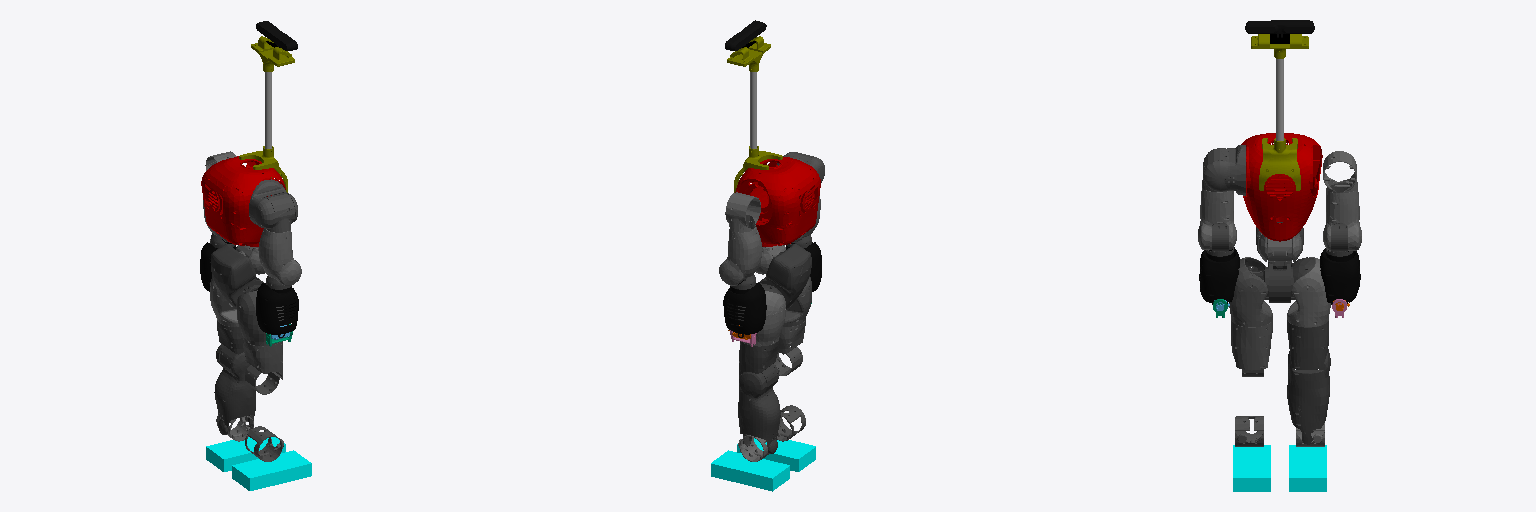
--- What the picture shows (computed from the rendered views, not written in the file) ---
Views: 3 orthographic renders of the robot side by side, from view 1: azimuth 30°, elevation 25°; view 2: azimuth 150°, elevation 25°; view 3: azimuth 270°, elevation 25°.
Robot: COMAN — 54 links, 53 joints (29 revolute, 24 fixed); root link base_link; default pose: all joints at 0.
Links seen in each view (by area): view 1: DWYTorso, LLowLeg, RFoot, Xtion_body, Waist, RForearm, RShy, RThighLowLeg, LFoot, RShp, RThighUpLeg, LThighLowLeg (+4 smaller); view 2: DWYTorso, LLowLeg, LFoot, Xtion_body, Waist, LForearm, LShy, LThighLowLeg, LThighUpLeg, LShr, RFoot, RThighLowLeg (+3 smaller); view 3: DWYTorso, Xtion_body, LLowLeg, RThighUpLeg, LThighUpLeg, RThighLowLeg, LShy, RForearm, RFoot, LFoot, LForearm, LThighLowLeg (+8 smaller).
Link boxes in pixels (<box>): DWYTorso: <box>201,156,285,246</box>; LLowLeg: <box>214,344,255,434</box>; RFoot: <box>232,450,311,490</box>; Xtion_body: <box>239,36,294,192</box>; Waist: <box>210,244,263,308</box>; RForearm: <box>256,283,298,337</box>; RShy: <box>258,229,301,285</box>; RThighLowLeg: <box>243,340,282,394</box>; LFoot: <box>206,437,285,471</box>; RShp: <box>249,179,297,228</box>; RThighUpLeg: <box>236,290,283,345</box>; LThighLowLeg: <box>217,321,243,373</box>; DWYTorso: <box>735,157,820,246</box>; LLowLeg: <box>738,364,780,453</box>; LFoot: <box>711,450,789,491</box>; Xtion_body: <box>727,36,782,192</box>; Waist: <box>758,244,811,308</box>; LForearm: <box>723,280,766,337</box>; LShy: <box>719,221,761,285</box>; LThighLowLeg: <box>739,340,778,391</box>; LThighUpLeg: <box>738,291,785,345</box>; LShr: <box>725,192,760,232</box>; RFoot: <box>737,438,815,471</box>; RThighLowLeg: <box>774,320,805,375</box>; DWYTorso: <box>1241,133,1322,241</box>; Xtion_body: <box>1251,34,1308,190</box>; LLowLeg: <box>1287,349,1330,444</box>; RThighUpLeg: <box>1229,257,1272,326</box>; LThighUpLeg: <box>1287,257,1330,326</box>; RThighLowLeg: <box>1231,320,1272,376</box>; LShy: <box>1323,181,1361,250</box>; RForearm: <box>1199,247,1239,304</box>; RFoot: <box>1233,445,1270,491</box>; LFoot: <box>1289,445,1326,491</box>; LForearm: <box>1320,248,1360,304</box>; LThighLowLeg: <box>1287,320,1328,369</box>.
Size in the robot's own frame: 0.2484 by 0.4296 by 1.33 metres.
27 mesh visuals loaded from 28 distinct referenced files (23 Collada DAE); not drawn: 5 (reference not matched to a file when rendering).

The robot description file, URDF, robot "COMAN":
<?xml version="1.0" ?>
<!-- =================================================================================== -->
<!-- |    This document was autogenerated by xacro from coman.urdf.xacro               | -->
<!-- |    EDITING THIS FILE BY HAND IS NOT RECOMMENDED                                 | -->
<!-- =================================================================================== -->
<robot name="COMAN" xmlns:xacro="http://ros.org/wiki/xacro">
  <!-- 
  ROS urdf definition of the COMAN humanoid robot by Istituto Italiano di Tecnologia
  
  DO NOT INCLUDE THIS FILE DIRECTLY! USE coman_robot.urdf.xacro INSTEAD!

  Author: Enrico Mingo & Alessio Rocchi

  Inertial matrix has to be in CoM frame (URDF specs)

  Velocity and effort limits are fake!
-->
  <!-- ************ MODEL CONFIGURATION ************ -->
  <!-- ******************** FAKE LINKS ******************** -->
  <!-- This links are defined in order to be compliant with http://www.ros.org/reps/rep-0120.html#coordinate-frames
and to define the end effectors of the robot -->
  <!-- The coordinate frame called base_link is rigidly attached to the robot root body. It is recommended to choose the robot waist as its root body. The base_link can be attached to the root in any arbitrary position or orientation; for every hardware platform there will be a different place on the base that provides an obvious point of reference. Note that REP 103 [1] specifies a preferred orientation for frames. -->
  <link name="base_link"/>
  <!-- position and orientation of the arm regardless of the tool (grasping device for instance) attached to it -->
  <link name="l_wrist"/>
  <link name="r_wrist"/>
  <!--  position and orientation of the leg regardless of the support body geometry -->
  <link name="l_ankle"/>
  <link name="r_ankle"/>
  <!-- position and orientation of the left leg support body. The (X,Y) plane of this frame must be coplanar with the support body contact surface. It is recommended to choose the origin as the projection of the support body origin on the contact surface. The Z coordinate of this frame should be on the ground level when standing. -->
  <link name="l_sole"/>
  <link name="r_sole"/>
  <!--  position and orientation of the leg toe body. The (X,Y) plan of this frame must be coplanar with the toe body contact surface. It is recommended to choose the origin as the projection of the body center on the contact surface. -->
  <link name="l_toe"/>
  <link name="r_toe"/>
  <!-- The coordinate frame called torso is attached to the lowest body of the model which is a parent of l_gripper, r_gripper and gaze. -->
  <link name="torso"/>
  <!-- Reference frames in feet -->
  <link name="l_foot_upper_right_link"/>
  <joint name="l_foot_upper_right_joint" type="fixed">
    <origin rpy="0 0 0" xyz="0.13 -0.05 0"/>
    <parent link="l_sole"/>
    <child link="l_foot_upper_right_link"/>
  </joint>
  <link name="l_foot_upper_left_link"/>
  <joint name="l_foot_upper_left_joint" type="fixed">
    <origin rpy="0 0 0" xyz="0.13 0.05 0"/>
    <parent link="l_sole"/>
    <child link="l_foot_upper_left_link"/>
  </joint>
  <link name="l_foot_lower_right_link"/>
  <joint name="l_foot_lower_right_joint" type="fixed">
    <origin rpy="0 0 0" xyz="-0.07 -0.05 0"/>
    <parent link="l_sole"/>
    <child link="l_foot_lower_right_link"/>
  </joint>
  <link name="l_foot_lower_left_link"/>
  <joint name="l_foot_lower_left_joint" type="fixed">
    <origin rpy="0 0 0" xyz="-0.07 0.05 0"/>
    <parent link="l_sole"/>
    <child link="l_foot_lower_left_link"/>
  </joint>
  <link name="r_foot_upper_right_link"/>
  <joint name="r_foot_upper_right_joint" type="fixed">
    <origin rpy="0 0 0" xyz="0.13 -0.05 0"/>
    <parent link="r_sole"/>
    <child link="r_foot_upper_right_link"/>
  </joint>
  <link name="r_foot_upper_left_link"/>
  <joint name="r_foot_upper_left_joint" type="fixed">
    <origin rpy="0 0 0" xyz="0.13 0.05 0"/>
    <parent link="r_sole"/>
    <child link="r_foot_upper_left_link"/>
  </joint>
  <link name="r_foot_lower_right_link"/>
  <joint name="r_foot_lower_right_joint" type="fixed">
    <origin rpy="0 0 0" xyz="-0.07 -0.05 0"/>
    <parent link="r_sole"/>
    <child link="r_foot_lower_right_link"/>
  </joint>
  <link name="r_foot_lower_left_link"/>
  <joint name="r_foot_lower_left_joint" type="fixed">
    <origin rpy="0 0 0" xyz="-0.07 0.05 0"/>
    <parent link="r_sole"/>
    <child link="r_foot_lower_left_link"/>
  </joint>
  <!-- Head -->
  <link name="Xtion_body">
    <inertial>
      <origin rpy="0 0 0" xyz="0.047 0.0 0.40"/>
      <mass value="0.39"/>
      <inertia ixx="0.01" ixy="3.34E-7" ixz="-2.66E-4" iyy="0.009" iyz="1.97E-6" izz="5.1E-4"/>
    </inertial>
    <visual>
      <origin rpy="0 0 -3.14159265359" xyz="-0.020281504 0.0 -0.68662053"/>
      <geometry name="Xtion_body_visual">
        <mesh filename="package://coman_urdf/meshes/collada/Xtion/xtion_base.dae" scale="0.03937 0.03937 0.03937"/>
      </geometry>
    </visual>
    <collision>
      <origin rpy="0 0 -3.14159265359" xyz="-0.020281504 0.0 -0.68662053"/>
      <geometry name="Xtion_body_collision">
        <mesh filename="package://coman_urdf/meshes/collada/simple/Xtion/xtion_base.stl" scale="0.03937 0.03937 0.03937"/>
      </geometry>
    </collision>
  </link>
  <link name="Xtion_cam_body">
    <inertial>
      <origin rpy="0 0 0" xyz="0.0 0.0 0.0225"/>
      <mass value="0.2"/>
      <inertia ixx="0.00053" ixy="0.0" ixz="0.0" iyy="0.00008" iyz="0.0" izz="0.00053"/>
    </inertial>
    <visual>
      <origin rpy="0 0 -3.14159265359" xyz="-0.0915 0.0 -1.2778"/>
      <geometry name="Xtion_cam_body_visual">
        <mesh filename="package://coman_urdf/meshes/collada/Xtion/xtion_cam_body.dae" scale="0.001 0.001 0.001"/>
      </geometry>
    </visual>
    <collision>
      <origin rpy="0 0 -3.14159265359" xyz="-0.0915 0.0 -1.2778"/>
      <geometry name="Xtion_cam_body_collision">
        <mesh filename="package://coman_urdf/meshes/collada/simple/Xtion/xtion_cam_body.stl" scale="0.001 0.001 0.001"/>
      </geometry>
    </collision>
  </link>
  <link name="gaze"/>
  <!-- ************ COMAN BASE ************** -->
  <link name="Waist">
    <inertial>
      <origin rpy="0 0 0" xyz="-0.026391145 -5.8216364E-4 0.052632312"/>
      <mass value="1.8008695"/>
      <inertia ixx="0.0051032982" ixy="-5.7170981E-5" ixz="0.0016920543" iyy="0.006241636" iyz="1.7225949E-5" izz="0.0024517762"/>
    </inertial>
    <visual>
      <origin rpy="0 0 -3.14159265359" xyz="0 0 -0.52"/>
      <geometry name="Waist_visual">
        <mesh filename="package://coman_urdf/meshes/collada/asm0001_collada_07_prt.dae" scale="0.03937 0.03937 0.03937"/>
      </geometry>
    </visual>
    <collision>
      <origin rpy="0 0 -3.14159265359" xyz="0 0 -0.52"/>
      <geometry name="Waist_collision">
        <mesh filename="package://coman_urdf/meshes/collada/simple/simple_asm0001_collada_07_prt.stl" scale="0.03937 0.03937 0.03937"/>
      </geometry>
    </collision>
  </link>
  <link name="DWL">
    <inertial>
      <origin rpy="0 0 0" xyz="4.2999707E-4 -0.0097650317 0.033011157"/>
      <mass value="0.54588774"/>
      <inertia ixx="9.7126578E-4" ixy="-7.2101244E-7" ixz="1.1440119E-6" iyy="7.4686706E-4" iyz="-1.7450917E-4" izz="6.2196235E-4"/>
    </inertial>
    <visual>
      <origin rpy="0 0 -3.14159265359" xyz="-0.020281504 0 -0.63912053"/>
      <geometry name="DWL_visual">
        <mesh filename="package://coman_urdf/meshes/collada/asm0001_collada_09_prt.dae" scale="0.03937 0.03937 0.03937"/>
      </geometry>
    </visual>
    <collision>
      <origin rpy="0 0 -3.14159265359" xyz="-0.020281504 0 -0.63912053"/>
      <geometry name="DWL_collision">
        <mesh filename="package://coman_urdf/meshes/collada/simple/simple_asm0001_collada_09_prt.stl" scale="0.03937 0.03937 0.03937"/>
      </geometry>
    </collision>
  </link>
  <link name="DWS">
    <inertial>
      <origin rpy="0 0 0" xyz="-0.0021273416 0.0033575235 -0.0010076896"/>
      <mass value="0.75398402"/>
      <inertia ixx="3.4093348E-4" ixy="-6.2120042E-6" ixz="-1.3863473E-6" iyy="3.9581916E-4" iyz="1.443019E-6" izz="3.7449753E-4"/>
    </inertial>
    <visual>
      <origin rpy="0 0 -3.14159265359" xyz="-0.020281504 0 -0.63912053"/>
      <geometry name="DWS_visual">
        <mesh filename="package://coman_urdf/meshes/collada/asm0001_collada_08_prt.dae" scale="0.03937 0.03937 0.03937"/>
      </geometry>
    </visual>
    <collision>
      <origin rpy="0 0 -3.14159265359" xyz="-0.020281504 0 -0.63912053"/>
      <geometry name="DWS_collision">
        <mesh filename="package://coman_urdf/meshes/collada/simple/simple_asm0001_collada_08_prt.stl" scale="0.03937 0.03937 0.03937"/>
      </geometry>
    </collision>
  </link>
  <link name="DWYTorso">
    <inertial>
      <origin rpy="0 0 0" xyz="-0.0358501 1.8286043E-5 0.117557148"/>
      <mass value="6.3617175"/>
      <inertia ixx="0.034089342" ixy="-9.8308572E-6" ixz="-7.5649290E-4" iyy="0.030117357" iyz="6.2443771E-6" izz="0.025296582"/>
    </inertial>
    <visual>
      <origin rpy="0 0 -3.14159265359" xyz="-0.020281504 0.0 -0.68662053"/>
      <geometry name="DWYTorso_visual">
        <mesh filename="package://coman_urdf/meshes/collada/asm0001_collada_10_prt.dae" scale="0.03937 0.03937 0.03937"/>
      </geometry>
    </visual>
    <collision>
      <origin rpy="0 0 -3.14159265359" xyz="-0.020281504 0.0 -0.68662053"/>
      <geometry name="DWYTorso_collision">
        <mesh filename="package://coman_urdf/meshes/collada/simple/simple_asm0001_collada_10_prt.stl" scale="0.03937 0.03937 0.03937"/>
      </geometry>
    </collision>
  </link>
  <link name="RHipMot">
    <inertial>
      <origin rpy="0 0 0" xyz="-3.269678E-4 -0.023587321 -2.6496509E-4"/>
      <mass value="0.89258227"/>
      <inertia ixx="4.7672294E-4" ixy="-3.9936567E-6" ixz="-2.4802574E-6" iyy="5.458038E-4" iyz="-3.3389575E-6" izz="5.126859E-4"/>
    </inertial>
    <visual>
      <origin rpy="0 0 -3.14159265359" xyz="0.0 0.023 -0.52"/>
      <geometry name="RHipMot_visual">
        <mesh filename="package://coman_urdf/meshes/collada/asm0001_collada_20_prt.dae" scale="0.03937 0.03937 0.03937"/>
      </geometry>
    </visual>
    <collision>
      <origin rpy="0 0 -3.14159265359" xyz="0.0 0.023 -0.52"/>
      <geometry name="RHipMot_collision">
        <mesh filename="package://coman_urdf/meshes/collada/simple/simple_asm0001_collada_20_prt.stl" scale="0.03937 0.03937 0.03937"/>
      </geometry>
    </collision>
  </link>
  <link name="RThighUpLeg">
    <inertial>
      <origin rpy="0 0 0" xyz="0.0012591632 -0.016896372 -0.058903336"/>
      <mass value="1.0246101"/>
      <inertia ixx="9.165719E-4" ixy="-1.4449904E-6" ixz="-1.6685011E-5" iyy="0.00104849584" iyz="2.5492874E-5" izz="6.8637197E-4"/>
    </inertial>
    <visual>
      <origin rpy="0 0 -3.14159265359" xyz="0.0 0.0726 -0.52"/>
      <geometry name="RThighUpLeg_visual">
        <mesh filename="package://coman_urdf/meshes/collada/asm0001_collada_19_prt.dae" scale="0.03937 0.03937 0.03937"/>
      </geometry>
    </visual>
    <collision>
      <origin rpy="0 0 -3.14159265359" xyz="0.0 0.0726 -0.52"/>
      <geometry name="RThighUpLeg_collision">
        <mesh filename="package://coman_urdf/meshes/collada/simple/simple_asm0001_collada_19_prt.stl" scale="0.03937 0.03937 0.03937"/>
      </geometry>
    </collision>
  </link>
  <link name="RThighLowLeg">
    <inertial>
      <origin rpy="0 0 0" xyz="9.8720058E-4 6.7037262E-4 -0.075716843"/>
      <mass value="1.7001134"/>
      <inertia ixx="0.0038979546" ixy="1.7802399E-6" ixz="2.6403262E-5" iyy="0.0039360845" iyz="4.522711E-5" izz="9.0218711E-4"/>
    </inertial>
    <visual>
      <origin rpy="0 0 -3.14159265359" xyz="0.0 0.0726 -0.4176"/>
      <geometry name="RThighLowLeg_visual">
        <mesh filename="package://coman_urdf/meshes/collada/asm0001_collada_18_prt.dae" scale="0.03937 0.03937 0.03937"/>
      </geometry>
    </visual>
    <collision>
      <origin rpy="0 0 -3.14159265359" xyz="0.0 0.0726 -0.4176"/>
      <geometry name="RThighLowLeg_collision">
        <mesh filename="package://coman_urdf/meshes/collada/simple/simple_asm0001_collada_18_prt.stl" scale="0.03937 0.03937 0.03937"/>
      </geometry>
    </collision>
  </link>
  <link name="RLowLeg">
    <inertial>
      <origin rpy="0 0 0" xyz="0.0024612666 -0.0053099614 -0.08598948"/>
      <mass value="1.4098179"/>
      <inertia ixx="0.0040604004" ixy="1.1227206E-5" ixz="1.2260973E-5" iyy="0.004005652855" iyz="5.1899176E-4" izz="0.0012414054"/>
    </inertial>
    <visual>
      <origin rpy="0 0 -3.14159265359" xyz="0.0 0.0726 -0.2942"/>
      <geometry name="RLowLeg_visual">
        <mesh filename="package://coman_urdf/meshes/collada/asm0001_collada_17_prt.dae" scale="0.03937 0.03937 0.03937"/>
      </geometry>
    </visual>
    <collision>
      <origin rpy="0 0 -3.14159265359" xyz="0.0 0.0726 -0.2942"/>
      <geometry name="RLowLeg_collision">
        <mesh filename="package://coman_urdf/meshes/collada/simple/simple_asm0001_collada_17_prt.stl" scale="0.03937 0.03937 0.03937"/>
      </geometry>
    </collision>
  </link>
  <link name="RFootmot">
    <inertial>
      <origin rpy="0 0 0" xyz="8.8067281E-4 -9.2224881E-4 2.3038476E-4"/>
      <mass value="0.72992131"/>
      <inertia ixx="3.2034425E-4" ixy="7.6346303E-6" ixz="2.5430158E-7" iyy="3.6584358E-4" iyz="-3.6889276E-6" izz="3.6065156E-4"/>
    </inertial>
    <visual>
      <origin rpy="0 0 -3.14159265359" xyz="0.0 0.0726 -0.0932"/>
      <geometry name="RFootmot_visual">
        <mesh filename="package://coman_urdf/meshes/collada/asm0001_collada_16_prt.dae" scale="0.03937 0.03937 0.03937"/>
      </geometry>
    </visual>
    <collision>
      <origin rpy="0 0 -3.14159265359" xyz="0.0 0.0726 -0.0932"/>
      <geometry name="RFootmot_collision">
        <mesh filename="package://coman_urdf/meshes/collada/simple/simple_asm0001_collada_16_prt.stl" scale="0.03937 0.03937 0.03937"/>
      </geometry>
    </collision>
  </link>
  <link name="RFoot">
    <inertial>
      <origin rpy="0 0 0" xyz="0.00969210464 -0.0090460227 -0.043062308"/>
      <mass value="0.66646684"/>
      <inertia ixx="0.0012944808" ixy="-9.2387693E-5" ixz="2.0080105E-4" iyy="0.0015851846" iyz="2.7599327E-4" izz="0.0013326766"/>
    </inertial>
    <visual>
      <origin rpy="0 0 0" xyz="0.03 0 -0.09"/>
      <geometry>
        <box size="0.2 0.1 0.04"/>
      </geometry>
      <material name="Cyan">
        <color rgba="0 1.0 1.0 1.0"/>
      </material>
    </visual>
    <collision>
      <origin rpy="0 0 0" xyz="0.03 0 -0.09"/>
      <geometry>
        <box size="0.2 0.1 0.04"/>
      </geometry>
    </collision>
  </link>
  <link name="LHipMot">
    <inertial>
      <origin rpy="0 0 0" xyz="-3.269678E-4 0.023587321 -2.6496509E-4"/>
      <mass value="0.89258227"/>
      <inertia ixx="4.7672294E-4" ixy="3.9936567E-6" ixz="-2.4802574E-6" iyy="5.458038E-4" iyz="3.3389575E-6" izz="5.126859E-4"/>
    </inertial>
    <visual>
      <origin rpy="0 0 -3.14159265359" xyz="0.0 -0.023 -0.52"/>
      <geometry name="RHipMot_visual">
        <mesh filename="package://coman_urdf/meshes/collada/asm0001_collada_06_prt.dae" scale="0.03937 0.03937 0.03937"/>
      </geometry>
    </visual>
    <collision>
      <origin rpy="0 0 -3.14159265359" xyz="0.0 -0.023 -0.52"/>
      <geometry name="RHipMot_collision">
        <mesh filename="package://coman_urdf/meshes/collada/simple/simple_asm0001_collada_06_prt.stl" scale="0.03937 0.03937 0.03937"/>
      </geometry>
    </collision>
  </link>
  <link name="LThighUpLeg">
    <inertial>
      <origin rpy="0 0 0" xyz="0.0012591632 0.016896372 -0.058903336"/>
      <mass value="1.0246101"/>
      <inertia ixx="9.165719E-4" ixy="1.4449904E-6" ixz="-1.6685011E-5" iyy="0.00104849584" iyz="-2.5492874E-5" izz="6.8637197E-4"/>
    </inertial>
    <visual>
      <origin rpy="0 0 -3.14159265359" xyz="0.0 -0.0726 -0.52"/>
      <geometry name="LThighUpLeg_visual">
        <mesh filename="package://coman_urdf/meshes/collada/asm0001_collada_05_prt.dae" scale="0.03937 0.03937 0.03937"/>
      </geometry>
    </visual>
    <collision>
      <origin rpy="0 0 -3.14159265359" xyz="0.0 -0.0726 -0.52"/>
      <geometry name="LThighUpLeg_collision">
        <mesh filename="package://coman_urdf/meshes/collada/simple/simple_asm0001_collada_05_prt.stl" scale="0.03937 0.03937 0.03937"/>
      </geometry>
    </collision>
  </link>
  <link name="LThighLowLeg">
    <inertial>
      <origin rpy="0 0 0" xyz="9.8720058E-4 -6.7037262E-4 -0.075716843"/>
      <mass value="1.7001134"/>
      <inertia ixx="0.0038979546" ixy="-1.7802399E-6" ixz="2.6403262E-5" iyy="0.0039360845" iyz="-4.5227110E-5" izz="9.0218711E-4"/>
    </inertial>
    <visual>
      <origin rpy="0 0 -3.14159265359" xyz="0.0 -0.0726 -0.4176"/>
      <geometry name="LThighLowLeg_visual">
        <mesh filename="package://coman_urdf/meshes/collada/asm0001_collada_04_prt.dae" scale="0.03937 0.03937 0.03937"/>
      </geometry>
    </visual>
    <collision>
      <origin rpy="0 0 -3.14159265359" xyz="0.0 -0.0726 -0.4176"/>
      <geometry name="LThighLowLeg_collision">
        <mesh filename="package://coman_urdf/meshes/collada/simple/simple_asm0001_collada_04_prt.stl" scale="0.03937 0.03937 0.03937"/>
      </geometry>
    </collision>
  </link>
  <link name="LLowLeg">
    <inertial>
      <origin rpy="0 0 0" xyz="0.0024612666 0.0053099614 -0.085989484"/>
      <mass value="1.4098179"/>
      <inertia ixx="0.0040604004" ixy="-1.1227206E-5" ixz="1.2260973E-5" iyy="0.004005652855" iyz="-5.1899176E-4" izz="0.0012414054"/>
    </inertial>
    <visual>
      <origin rpy="0 0 -3.14159265359" xyz="0.0 -0.0726 -0.2942"/>
      <geometry name="LLowLeg_visual">
        <mesh filename="package://coman_urdf/meshes/collada/asm0001_collada_03_prt.dae" scale="0.03937 0.03937 0.03937"/>
      </geometry>
    </visual>
    <collision>
      <origin rpy="0 0 -3.14159265359" xyz="0.0 -0.0726 -0.2942"/>
      <geometry name="LLowLeg_collision">
        <mesh filename="package://coman_urdf/meshes/collada/simple/simple_asm0001_collada_03_prt.stl" scale="0.03937 0.03937 0.03937"/>
      </geometry>
    </collision>
  </link>
  <link name="LFootmot">
    <inertial>
      <origin rpy="0 0 0" xyz="8.8067281E-4 9.2224881E-4 2.3038476E-4"/>
      <mass value="0.72992131"/>
      <inertia ixx="3.2034425E-4" ixy="-7.6346303E-6" ixz="2.5430158E-7" iyy="3.6584358E-4" iyz="3.6889276E-6" izz="3.6065156E-4"/>
    </inertial>
    <visual>
      <origin rpy="0 0 -3.14159265359" xyz="0.0 -0.0726 -0.0932"/>
      <geometry name="LFootmot_visual">
        <mesh filename="package://coman_urdf/meshes/collada/asm0001_collada_02_prt.dae" scale="0.03937 0.03937 0.03937"/>
      </geometry>
    </visual>
    <collision>
      <origin rpy="0 0 -3.14159265359" xyz="0.0 -0.0726 -0.0932"/>
      <geometry name="LFootmot_collision">
        <mesh filename="package://coman_urdf/meshes/collada/simple/simple_asm0001_collada_02_prt.stl" scale="0.03937 0.03937 0.03937"/>
      </geometry>
    </collision>
  </link>
  <link name="LFoot">
    <inertial>
      <origin rpy="0 0 0" xyz="0.0096921046 0.0090460227 -0.043062308"/>
      <mass value="0.66646684"/>
      <inertia ixx="0.0012944808" ixy="9.2387693E-5" ixz="2.0080105E-4" iyy="0.0015851846" iyz="-2.7599327E-4" izz="0.0013326766"/>
    </inertial>
    <visual>
      <origin rpy="0 0 0" xyz="0.03 0 -0.09"/>
      <geometry>
        <box size="0.2 0.1 0.04"/>
      </geometry>
      <material name="Cyan">
        <color rgba="0 1.0 1.0 1.0"/>
      </material>
    </visual>
    <collision>
      <origin rpy="0 0 0" xyz="0.03 0 -0.09"/>
      <geometry>
        <box size="0.2 0.1 0.04"/>
      </geometry>
    </collision>
  </link>
  <link name="RShp">
    <inertial>
      <origin rpy="0 0 0" xyz="0.0099500565 -0.038682024 1.6446924E-4"/>
      <mass value="0.56782202"/>
      <inertia ixx="7.8337456E-4" ixy="1.9035768E-4" ixz="-3.0037676E-6" iyy="6.3399921E-4" iyz="4.3840774E-6" izz="0.001008054"/>
    </inertial>
    <visual>
      <origin rpy="0 0 -3.14159265359" xyz="-0.005305 0.0825 -0.844329"/>
      <geometry name="RShp_visual">
        <mesh filename="package://coman_urdf/meshes/collada/asm0001_collada_24_prt.dae" scale="0.03937 0.03937 0.03937"/>
      </geometry>
    </visual>
    <collision>
      <origin rpy="0 0 -3.14159265359" xyz="-0.005305 0.0825 -0.844329"/>
      <geometry name="RShp_collision">
        <mesh filename="package://coman_urdf/meshes/collada/simple/simple_asm0001_collada_24_prt.stl" scale="0.03937 0.03937 0.03937"/>
      </geometry>
    </collision>
  </link>
  <link name="RShr">
    <inertial>
      <origin rpy="0 0 0" xyz="-0.0038936743 2.2022151E-6 -0.0048616005"/>
      <mass value="0.77683752"/>
      <inertia ixx="4.5812904E-4" ixy="-2.4111086E-7" ixz="9.2521185E-6" iyy="4.3089204E-4" iyz="-4.7216950E-7" izz="3.4174855E-4"/>
    </inertial>
    <visual>
      <origin rpy="0 0 -3.14159265359" xyz="-0.005305 0.1558 -0.844329"/>
      <geometry name="RShr_visual">
        <mesh filename="package://coman_urdf/meshes/collada/asm0001_collada_23_prt.dae" scale="0.03937 0.03937 0.03937"/>
      </geometry>
    </visual>
    <collision>
      <origin rpy="0 0 -3.14159265359" xyz="-0.005305 0.1558 -0.844329"/>
      <geometry name="RShr_collision">
        <mesh filename="package://coman_urdf/meshes/collada/simple/simple_asm0001_collada_23_prt.stl" scale="0.03937 0.03937 0.03937"/>
      </geometry>
    </collision>
  </link>
  <link name="RShy">
    <inertial>
      <origin rpy="0 0 0" xyz="0.0022714213 -0.0071091517 -0.057455221"/>
      <mass value="1.0462304"/>
      <inertia ixx="0.0030934574" ixy="6.6702837E-5" ixz="3.0222291E-4" iyy="0.0029181573" iyz="-5.2663661E-4" izz="8.0830389E-4"/>
    </inertial>
    <visual>
      <origin rpy="0 0 -3.14159265359" xyz="-0.005305 0.1558 -0.79952053"/>
      <geometry name="RShy_visual">
        <mesh filename="package://coman_urdf/meshes/collada/asm0001_collada_22_prt.dae" scale="0.03937 0.03937 0.03937"/>
      </geometry>
    </visual>
    <collision>
      <origin rpy="0 0 -3.14159265359" xyz="-0.005305 0.1558 -0.79952053"/>
      <geometry name="RShy_collision">
        <mesh filename="package://coman_urdf/meshes/collada/simple/simple_asm0001_collada_22_prt.stl" scale="0.03937 0.03937 0.03937"/>
      </geometry>
    </collision>
  </link>
  <link name="LShp">
    <inertial>
      <origin rpy="0 0 0" xyz="0.0099500565 0.038682024 1.6446924E-4"/>
      <mass value="0.56782202"/>
      <inertia ixx="7.8337456E-4" ixy="-1.9035768E-4" ixz="-3.0037676E-6" iyy="6.3399921E-4" iyz="-4.3840774E-6" izz="0.001008054"/>
    </inertial>
    <visual>
      <origin rpy="0 0 -3.14159265359" xyz="-0.005305 -0.0825 -0.844329"/>
      <geometry name="LShp_visual">
        <mesh filename="package://coman_urdf/meshes/collada/asm0001_collada_14_prt.dae" scale="0.03937 0.03937 0.03937"/>
      </geometry>
    </visual>
    <collision>
      <origin rpy="0 0 -3.14159265359" xyz="-0.005305 -0.0825 -0.844329"/>
      <geometry name="LShp_collision">
        <mesh filename="package://coman_urdf/meshes/collada/simple/simple_asm0001_collada_14_prt.stl" scale="0.03937 0.03937 0.03937"/>
      </geometry>
    </collision>
  </link>
  <link name="LShr">
    <inertial>
      <origin rpy="0 0 0" xyz="-0.0038936743 -2.2022151E-6 -0.0048616005"/>
      <mass value="0.77683752"/>
      <inertia ixx="4.5812904E-4" ixy="2.4111086E-7" ixz="9.2521185E-6" iyy="4.3089204E-4" iyz="4.721695E-7" izz="3.4174855E-4"/>
    </inertial>
    <visual>
      <origin rpy="0 0 -3.14159265359" xyz="-0.005305 -0.1558 -0.844329"/>
      <geometry name="LShr_visual">
        <mesh filename="package://coman_urdf/meshes/collada/asm0001_collada_13_prt.dae" scale="0.03937 0.03937 0.03937"/>
      </geometry>
    </visual>
    <collision>
      <origin rpy="0 0 -3.14159265359" xyz="-0.005305 -0.1558 -0.844329"/>
      <geometry name="LShr_collision">
        <mesh filename="package://coman_urdf/meshes/collada/simple/simple_asm0001_collada_13_prt.stl" scale="0.03937 0.03937 0.03937"/>
      </geometry>
    </collision>
  </link>
  <link name="LShy">
    <inertial>
      <origin rpy="0 0 0" xyz="0.0022714213 0.0071091517 -0.057455221"/>
      <mass value="1.0462304"/>
      <inertia ixx="0.0030934574" ixy="-6.6702837E-5" ixz="3.0222291E-4" iyy="0.0029181573" iyz="5.2663661E-4" izz="8.0830389E-4"/>
    </inertial>
    <visual>
      <origin rpy="0 0 -3.14159265359" xyz="-0.005305 -0.1558 -0.79952053"/>
      <geometry name="LShy_visual">
        <mesh filename="package://coman_urdf/meshes/collada/asm0001_collada_12_prt.dae" scale="0.03937 0.03937 0.03937"/>
      </geometry>
    </visual>
    <collision>
      <origin rpy="0 0 -3.14159265359" xyz="-0.005305 -0.1558 -0.79952053"/>
      <geometry name="LShy_collision">
        <mesh filename="package://coman_urdf/meshes/collada/simple/simple_asm0001_collada_12_prt.stl" scale="0.03937 0.03937 0.03937"/>
      </geometry>
    </collision>
  </link>
  <joint name="base_joint" type="fixed">
    <parent link="base_link"/>
    <child link="Waist"/>
    <origin rpy="0 0 0" xyz="0 0 0"/>
  </joint>
  <joint name="l_ankle_joint" type="fixed">
    <parent link="LFoot"/>
    <child link="l_ankle"/>
    <origin rpy="0 0 0" xyz="0 0 0"/>
  </joint>
  <joint name="r_ankle_joint" type="fixed">
    <parent link="RFoot"/>
    <child link="r_ankle"/>
    <origin rpy="0 0 0" xyz="0 0 0"/>
  </joint>
  <joint name="l_sole_joint" type="fixed">
    <parent link="LFoot"/>
    <child link="l_sole"/>
    <origin rpy="0 0 0" xyz="0 0 -0.09"/>
  </joint>
  <joint name="r_sole_joint" type="fixed">
    <parent link="RFoot"/>
    <child link="r_sole"/>
    <origin rpy="0 0 0" xyz="0 0 -0.09"/>
  </joint>
  <joint name="l_toe_joint" type="fixed">
    <parent link="l_sole"/>
    <child link="l_toe"/>
    <origin rpy="0 0 0" xyz="0.13 0 0"/>
  </joint>
  <joint name="r_toe_joint" type="fixed">
    <parent link="r_sole"/>
    <child link="r_toe"/>
    <origin rpy="0 0 0" xyz="0.13 0 0"/>
  </joint>
  <joint name="torso_joint" type="fixed">
    <parent link="DWYTorso"/>
    <child link="torso"/>
    <origin rpy="0 0 0" xyz="-0.014976503999999998 0 0.15770847"/>
  </joint>
  <joint name="Xtion_body_joint" type="fixed">
    <parent link="DWYTorso"/>
    <child link="Xtion_body"/>
    <origin rpy="0 0 0" xyz="0 0 0"/>
  </joint>
  <joint name="Xtion_cam_body_joint" type="fixed">
    <parent link="Xtion_body"/>
    <child link="Xtion_cam_body"/>
    <!-- origin xyz="0.071 0 0.591" rpy="0 1.396 0" / -->
    <origin rpy="0 0 0" xyz="0.071 0 0.591"/>
    <!--axis xyz="0 1 0" />
    		<limit velocity="4.0" effort="5" lower="-0.4145" upper="1.57075" />
    		<dynamics friction="0" damping="3.0"/-->
  </joint>
  <joint name="gaze_joint" type="fixed">
    <parent link="Xtion_cam_body"/>
    <child link="gaze"/>
    <origin rpy="0 0 0" xyz="0.015 0 0.022"/>
  </joint>
  <joint name="WaistLat" type="revolute">
    <!-- Wrong name! need to fix this... -->
    <parent link="Waist"/>
    <child link="DWL"/>
    <origin rpy="0 0 0" xyz="0.020281504 0 0.11912053"/>
    <axis xyz="0.939692608 0 0.3420201433"/>
    <limit effort="50" lower="-0.5236" upper="0.5235" velocity="4.0"/>
    <!-- dynamics friction="0" damping="0.3"/ -->
    <dynamics damping="3.0" friction="0"/>
  </joint>
  <joint name="WaistSag" type="revolute">
    <!-- Wrong name! need to fix this... -->
    <parent link="DWL"/>
    <child link="DWS"/>
    <origin rpy="0 0 0" xyz="0 0 0"/>
    <axis xyz="0 1 0"/>
    <limit effort="50" lower="-0.3491" upper="0.8727" velocity="4.0"/>
    <dynamics damping="3.0" friction="0"/>
  </joint>
  <joint name="WaistYaw" type="revolute">
    <parent link="DWS"/>
    <child link="DWYTorso"/>
    <origin rpy="0 0 0" xyz="0 0 0.04749999"/>
    <axis xyz="0 0 1"/>
    <limit effort="50" lower="-1.3963" upper="1.3962" velocity="4.0"/>
    <dynamics damping="3.0" friction="0"/>
  </joint>
  <joint name="RHipSag" type="revolute">
    <parent link="Waist"/>
    <child link="RHipMot"/>
    <origin rpy="0 0 0" xyz="0.0 -0.023 0.0"/>
    <axis xyz="0 1 0"/>
    <limit effort="50" lower="-1.9199" upper="0.7854" velocity="4.0"/>
    <dynamics damping="3.0" friction="0"/>
  </joint>
  <joint name="RHipLat" type="revolute">
    <parent link="RHipMot"/>
    <child link="RThighUpLeg"/>
    <origin rpy="0 0 0" xyz="0.0 -0.0496 0.0"/>
    <axis xyz="1 0 0"/>
    <limit effort="50" lower="-1.0472" upper="0.4363" velocity="4.0"/>
    <dynamics damping="3.0" friction="0"/>
  </joint>
  <joint name="RHipYaw" type="revolute">
    <parent link="RThighUpLeg"/>
    <child link="RThighLowLeg"/>
    <origin rpy="0 0 0" xyz="0.0 0.0 -0.1024"/>
    <axis xyz="0 0 1"/>
    <limit effort="50" lower="-0.8727" upper="0.8727" velocity="4.0"/>
    <dynamics damping="3.0" friction="0"/>
  </joint>
  <joint name="RKneeSag" type="revolute">
    <parent link="RThighLowLeg"/>
    <child link="RLowLeg"/>
    <origin rpy="0 0 0" xyz="0.0 0.0 -0.1234"/>
    <axis xyz="0 1 0"/>
    <limit effort="50" lower="-0.1745" upper="1.9199" velocity="4.0"/>
    <dynamics damping="3.0" friction="0"/>
  </joint>
  <joint name="RAnkLat" type="revolute">
    <parent link="RLowLeg"/>
    <child link="RFootmot"/>
    <origin rpy="0 0 0" xyz="0.0 0.0 -0.201"/>
    <axis xyz="1 0 0"/>
    <limit effort="50" lower="-0.6109" upper="0.6109" velocity="4.0"/>
    <dynamics damping="3.0" friction="0"/>
  </joint>
  <joint name="RAnkSag" type="revolute">
    <parent link="RFootmot"/>
    <child link="RFoot"/>
    <origin rpy="0 0 0" xyz="0.0 0.0 0.0"/>
    <axis xyz="0 1 0"/>
    <limit effort="50" lower="-1.2217" upper="1.2217" velocity="4.0"/>
    <dynamics damping="3.0" friction="0"/>
  </joint>
  <joint name="LHipSag" type="revolute">
    <parent link="Waist"/>
    <child link="LHipMot"/>
    <origin rpy="0 0 0" xyz="0.0 0.023 0.0"/>
    <axis xyz="0 1 0"/>
    <limit effort="50" lower="-1.9199" upper="0.7854" velocity="4.0"/>
    <dynamics damping="3.0" friction="0"/>
  </joint>
  <joint name="LHipLat" type="revolute">
    <parent link="LHipMot"/>
    <child link="LThighUpLeg"/>
    <origin rpy="0 0 0" xyz="0.0 0.0496 0.0"/>
    <axis xyz="1 0 0"/>
    <limit effort="50" lower="-0.4363" upper="1.0472" velocity="4.0"/>
    <dynamics damping="3.0" friction="0"/>
  </joint>
  <joint name="LHipYaw" type="revolute">
    <parent link="LThighUpLeg"/>
    <child link="LThighLowLeg"/>
    <origin rpy="0 0 0" xyz="0.0 0.0 -0.1024"/>
    <axis xyz="0 0 1"/>
    <limit effort="50" lower="-0.8727" upper="0.8727" velocity="4.0"/>
    <dynamics damping="3.0" friction="0"/>
  </joint>
  <joint name="LKneeSag" type="revolute">
    <parent link="LThighLowLeg"/>
    <child link="LLowLeg"/>
    <origin rpy="0 0 0" xyz="0.0 0.0 -0.1234"/>
    <axis xyz="0 1 0"/>
    <limit effort="50" lower="-0.1745" upper="1.9199" velocity="4.0"/>
    <dynamics damping="3.0" friction="0"/>
  </joint>
  <joint name="LAnkLat" type="revolute">
    <parent link="LLowLeg"/>
    <child link="LFootmot"/>
    <origin rpy="0 0 0" xyz="0.0 0.0 -0.201"/>
    <axis xyz="1 0 0"/>
    <limit effort="50" lower="-0.6109" upper="0.6109" velocity="4.0"/>
    <dynamics damping="3.0" friction="0"/>
  </joint>
  <joint name="LAnkSag" type="revolute">
    <parent link="LFootmot"/>
    <child link="LFoot"/>
    <origin rpy="0 0 0" xyz="0.0 0.0 0.0"/>
    <axis xyz="0 1 0"/>
    <limit effort="50" lower="-1.2217" upper="1.2217" velocity="4.0"/>
    <dynamics damping="3.0" friction="0"/>
  </joint>
  <joint name="RShSag" type="revolute">
    <parent link="DWYTorso"/>
    <child link="RShp"/>
    <origin rpy="0 0 0" xyz="-0.014976503999999998 -0.0825 0.15770847"/>
    <axis xyz="0 1 0"/>
    <limit effort="50" lower="-3.4034" upper="1.6581" velocity="4.0"/>
    <dynamics damping="3.0" friction="0"/>
  </joint>
  <joint name="RShLat" type="revolute">
    <parent link="RShp"/>
    <child link="RShr"/>
    <origin rpy="0 0 0" xyz="0.0 -0.07329999999999999 0.0"/>
    <axis xyz="1 0 0"/>
    <limit effort="50" lower="-2.094" upper="0.31415" velocity="4.0"/>
    <dynamics damping="3.0" friction="0"/>
  </joint>
  <joint name="RShYaw" type="revolute">
    <parent link="RShr"/>
    <child link="RShy"/>
    <origin rpy="0 0 0" xyz="0.0 0.0 -0.04480846999999999"/>
    <axis xyz="0 0 1"/>
    <limit effort="50" lower="-1.5708" upper="1.5708" velocity="4.0"/>
    <dynamics damping="3.0" friction="0"/>
  </joint>
  <joint name="RElbj" type="revolute">
    <parent link="RShy"/>
    <child link="RElb"/>
    <origin rpy="0 0 0" xyz="0.015 0.0 -0.13519152999999998"/>
    <axis xyz="0 1 0"/>
    <limit effort="50" lower="-2.3562" upper="0.0" velocity="4.0"/>
    <dynamics damping="3.0" friction="0"/>
  </joint>
  <joint name="LShSag" type="revolute">
    <parent link="DWYTorso"/>
    <child link="LShp"/>
    <origin rpy="0 0 0" xyz="-0.014976503999999998 0.0825 0.15770847"/>
    <axis xyz="0 1 0"/>
    <limit effort="50" lower="-3.4034" upper="1.6581" velocity="4.0"/>
    <dynamics damping="3.0" friction="0"/>
  </joint>
  <joint name="LShLat" type="revolute">
    <parent link="LShp"/>
    <child link="LShr"/>
    <origin rpy="0 0 0" xyz="0.0 0.07329999999999999 0.0"/>
    <axis xyz="1 0 0"/>
    <limit effort="50" lower="-0.31415" upper="2.094" velocity="4.0"/>
    <dynamics damping="3.0" friction="0"/>
  </joint>
  <joint name="LShYaw" type="revolute">
    <parent link="LShr"/>
    <child link="LShy"/>
    <origin rpy="0 0 0" xyz="0.0 0.0 -0.04480846999999999"/>
    <axis xyz="0 0 1"/>
    <limit effort="50" lower="-1.5708" upper="1.5708" velocity="4.0"/>
    <dynamics damping="3.0" friction="0"/>
  </joint>
  <joint name="LElbj" type="revolute">
    <parent link="LShy"/>
    <child link="LElb"/>
    <origin rpy="0 0 0" xyz="0.015 0.0 -0.13519152999999998"/>
    <axis xyz="0 1 0"/>
    <limit effort="50" lower="-2.3562" upper="0.0" velocity="4.0"/>
    <dynamics damping="3.0" friction="0"/>
  </joint>
  <!-- ************ FOREARMS ************ -->
  <link name="LElb">
    <inertial>
      <origin rpy="0 0 0" xyz="-6.5553403E-4 9.3464748E-4 -9.3101289E-4"/>
      <mass value="0.63306933"/>
      <inertia ixx="2.2599075E-4" ixy="2.6376470E-7" ixz="-9.8007285E-6" iyy="2.7781302E-4" iyz="2.0435288E-6" izz="2.1878992E-4"/>
    </inertial>
    <visual>
      <origin rpy="-1.570796326795 1.570796326795 0" xyz="0 0 0"/>
      <geometry name="LElb_visual">
        <mesh filename="package://coman_urdf/meshes/collada/forearms/elbow.dae" scale="1.0 1.0 1.0"/>
      </geometry>
    </visual>
    <collision>
      <origin rpy="-1.570796326795 1.570796326795 0" xyz="0 0 0"/>
      <geometry name="LElb_collision">
        <mesh filename="package://coman_urdf/meshes/collada/simple/forearms/elbow.stl" scale="1.0 1.0 1.0"/>
      </geometry>
    </collision>
  </link>
  <link name="LForearm">
    <inertial>
      <origin rpy="0 0 0" xyz="0 0 -0.0282"/>
      <mass value="0.93351655"/>
      <inertia ixx="0.001" ixy="0.0" ixz="0.0" iyy="0.001" iyz="0.0" izz="0.001"/>
    </inertial>
    <visual>
      <origin rpy="3.14159265359 0 1.570796326795" xyz="0 0 0.0718"/>
      <geometry name="LForearm_visual">
        <mesh filename="package://coman_urdf/meshes/collada/forearms/forearm_lowpoly.dae" scale="0.1 0.1 0.1"/>
      </geometry>
    </visual>
    <collision>
      <origin rpy="0 3.14159265359 1.570796326795" xyz="0 0 0.0718"/>
      <geometry name="LForearm_collision">
        <mesh filename="package://coman_urdf/meshes/collada/simple/forearms/forearm.stl" scale="1.0 1.0 1.0"/>
      </geometry>
    </collision>
  </link>
  <link name="LWrMot2">
    <inertial>
      <origin rpy="0 0 0" xyz="0 0 0"/>
      <mass value="0.26070556"/>
      <inertia ixx="0.000132" ixy="0" ixz="0" iyy="0.000132" iyz="0" izz="5.213E-5"/>
    </inertial>
    <visual>
      <origin rpy="0 1.570796326795 3.14159265359" xyz="0.025 0 0"/>
      <geometry name="LWrMot2_visual">
        <mesh filename="package://coman_urdf/meshes/collada/forearms/fa_asm_3_right_sw0001.dae" scale="0.001 0.001 0.001"/>
      </geometry>
    </visual>
    <collision>
      <origin rpy="0 1.570796326795 3.14159265359" xyz="0.025 0 0"/>
      <geometry name="LWrMot2_collision">
        <mesh filename="package://coman_urdf/meshes/collada/simple/forearms/simple_fa_asm_3_right_sw0001.stl" scale="0.001 0.001 0.001"/>
      </geometry>
    </collision>
  </link>
  <link name="LWrMot3">
    <inertial>
      <origin rpy="0 0 0" xyz="0 0 0"/>
      <mass value="0.054007518"/>
      <inertia ixx="2.16E-5" ixy="0" ixz="0" iyy="2.16E-5" iyz="0" izz="2.16E-5"/>
    </inertial>
    <visual>
      <origin rpy="0 3.14159265359 1.570796326795" xyz="0.025 -0.012 -0.02"/>
      <geometry name="LWrMot3_visual">
        <mesh filename="package://coman_urdf/meshes/collada/forearms/fa_hand_interface_rig_sw0001.dae" scale="0.001 0.001 0.001"/>
      </geometry>
    </visual>
    <collision>
      <origin rpy="0 3.14159265359 1.570796326795" xyz="0.025 -0.012 -0.02"/>
      <geometry name="LWrMot3_collision">
        <mesh filename="package://coman_urdf/meshes/collada/simple/forearms/simple_fa_hand_interface_rig_sw0001.stl" scale="0.001 0.001 0.001"/>
      </geometry>
    </collision>
  </link>
  <link name="RElb">
    <inertial>
      <origin rpy="0 0 0" xyz="-6.5553403E-4 -9.3464748E-4 -9.3101289E-4"/>
      <mass value="0.63306933"/>
      <inertia ixx="2.2599075E-4" ixy="-2.6376470E-7" ixz="-9.8007285E-6" iyy="2.7781302E-4" iyz="-2.0435288E-6" izz="2.1878992E-4"/>
    </inertial>
    <visual>
      <origin rpy="-1.570796326795 1.570796326795 0" xyz="0 0 0"/>
      <geometry name="RElb_visual">
        <mesh filename="package://coman_urdf/meshes/collada/forearms/elbow.dae" scale="1.0 1.0 1.0"/>
      </geometry>
    </visual>
    <collision>
      <origin rpy="-1.570796326795 1.570796326795 0" xyz="0 0 0"/>
      <geometry name="RElb_collision">
        <mesh filename="package://coman_urdf/meshes/collada/simple/forearms/elbow.stl" scale="1.0 1.0 1.0"/>
      </geometry>
    </collision>
  </link>
  <link name="RForearm">
    <inertial>
      <origin rpy="0 0 0" xyz="0 0 -0.0282"/>
      <mass value="0.93351655"/>
      <inertia ixx="0.001" ixy="0.0" ixz="0.0" iyy="0.001" iyz="0.0" izz="0.001"/>
    </inertial>
    <visual>
      <origin rpy="3.14159265359 0 1.570796326795" xyz="0 0 0.0718"/>
      <geometry name="RForearm_visual">
        <mesh filename="package://coman_urdf/meshes/collada/forearms/forearm_lowpoly.dae" scale="0.1 0.1 0.1"/>
      </geometry>
    </visual>
    <collision>
      <origin rpy="0 3.14159265359 1.570796326795" xyz="0 0 0.0718"/>
      <geometry name="RForearm_collision">
        <mesh filename="package://coman_urdf/meshes/collada/simple/forearms/forearm.stl" scale="1.0 1.0 1.0"/>
      </geometry>
    </collision>
  </link>
  <link name="RWrMot2">
    <inertial>
      <origin rpy="0 0 0" xyz="0 0 0"/>
      <mass value="0.26070556"/>
      <inertia ixx="0.000132" ixy="0" ixz="0" iyy="0.000132" iyz="0" izz="5.213E-5"/>
    </inertial>
    <visual>
      <origin rpy="0 1.570796326795 3.14159265359" xyz="0.025 0 0"/>
      <geometry name="RWrMot2_visual">
        <mesh filename="package://coman_urdf/meshes/collada/forearms/fa_asm_3_right_sw0001.dae" scale="0.001 0.001 0.001"/>
      </geometry>
    </visual>
    <collision>
      <origin rpy="0 1.570796326795 3.14159265359" xyz="0.025 0 0"/>
      <geometry name="RWrMot2_collision">
        <mesh filename="package://coman_urdf/meshes/collada/simple/forearms/simple_fa_asm_3_right_sw0001.stl" scale="0.001 0.001 0.001"/>
      </geometry>
    </collision>
  </link>
  <link name="RWrMot3">
    <inertial>
      <origin rpy="0 0 0" xyz="0 0 0"/>
      <mass value="0.054007518"/>
      <inertia ixx="2.16E-5" ixy="0" ixz="0" iyy="2.16E-5" iyz="0" izz="2.16E-5"/>
    </inertial>
    <visual>
      <origin rpy="0 3.14159265359 1.570796326795" xyz="0.025 -0.012 -0.02"/>
      <geometry name="RWrMot3_visual">
        <mesh filename="package://coman_urdf/meshes/collada/forearms/fa_hand_interface_rig_sw0001.dae" scale="0.001 0.001 0.001"/>
      </geometry>
    </visual>
    <collision>
      <origin rpy="0 3.14159265359 1.570796326795" xyz="0.025 -0.012 -0.02"/>
      <geometry name="RWrMot3_collision">
        <mesh filename="package://coman_urdf/meshes/collada/simple/forearms/simple_fa_hand_interface_rig_sw0001.stl" scale="0.001 0.001 0.001"/>
      </geometry>
    </collision>
  </link>
  <joint name="LForearmPlate" type="revolute">
    <parent link="LElb"/>
    <child link="LForearm"/>
    <origin rpy="0 0 0" xyz="-0.015 0.0 -0.1078"/>
    <axis xyz="0 0 1"/>
    <limit effort="5" lower="-1.5708" upper="1.5708" velocity="4.0"/>
    <dynamics damping="0.03" friction="0"/>
  </joint>
  <joint name="LWrj1" type="revolute">
    <parent link="LForearm"/>
    <child link="LWrMot2"/>
    <origin rpy="0 0 0" xyz="0 0 -0.08688"/>
    <axis xyz="0 1 0"/>
    <limit effort="5" lower="-0.524" upper="0.524" velocity="4.0"/>
    <dynamics damping="0.03" friction="0"/>
  </joint>
  <joint name="LWrj2" type="revolute">
    <parent link="LWrMot2"/>
    <child link="LWrMot3"/>
    <origin rpy="0 0 0" xyz="0 0 0.0"/>
    <axis xyz="1 0 0"/>
    <limit effort="5" lower="-0.785375" upper="1.395" velocity="4.0"/>
    <dynamics damping="0.03" friction="0"/>
  </joint>
  <joint name="RForearmPlate" type="revolute">
    <parent link="RElb"/>
    <child link="RForearm"/>
    <origin rpy="0 0 0" xyz="-0.015 0.0 -0.1078"/>
    <axis xyz="0 0 1"/>
    <limit effort="5" lower="-1.5708" upper="1.5708" velocity="4.0"/>
    <dynamics damping="0.03" friction="0"/>
  </joint>
  <joint name="RWrj1" type="revolute">
    <parent link="RForearm"/>
    <child link="RWrMot2"/>
    <origin rpy="0 0 0" xyz="0 0 -0.08688"/>
    <axis xyz="0 1 0"/>
    <limit effort="5" lower="-0.524" upper="0.524" velocity="4.0"/>
    <dynamics damping="0.03" friction="0"/>
  </joint>
  <joint name="RWrj2" type="revolute">
    <parent link="RWrMot2"/>
    <child link="RWrMot3"/>
    <origin rpy="0 0 0" xyz="0 0 0.0"/>
    <axis xyz="1 0 0"/>
    <limit effort="5" lower="-1.395" upper="0.785375" velocity="4.0"/>
    <dynamics damping="0.03" friction="0"/>
  </joint>
  <!-- ************ HANDS ************ -->
  <joint name="l_wrist_joint" type="fixed">
    <parent link="LWrMot3"/>
    <child link="l_wrist"/>
    <origin rpy="0 0 0" xyz="0 0 0"/>
  </joint>
  <joint name="r_wrist_joint" type="fixed">
    <parent link="RWrMot3"/>
    <child link="r_wrist"/>
    <origin rpy="0 0 0" xyz="0 0 0"/>
  </joint>
  <link name="RSoftHand">
    <inertial>
      <origin rpy="0 0 0" xyz="0 0 0"/>
      <mass value="0.3"/>
      <inertia ixx="0.001" ixy="0" ixz="0" iyy="0.001" iyz="0" izz="0.001"/>
    </inertial>
    <visual>
      <origin rpy="-1.5707963268 0 3.14159265359" xyz="0.007 0.01 -0.04"/>
      <geometry name="RSoftHand_visual">
        <mesh filename="package://coman_urdf/meshes/collada/forearms/R_soft_hand_open_lowpoly.dae" scale="0.1 0.1 0.1"/>
      </geometry>
    </visual>
    <collision>
      <origin rpy="0 0 3.14159265359" xyz="0 0.01 -0.04"/>
      <geometry name="RSoftHand_collision">
        <mesh filename="package://coman_urdf/meshes/collada/simple/forearms/R_soft_hand_open.stl" scale="1E-3 1E-3 1E-3"/>
      </geometry>
    </collision>
  </link>
  <link name="LSoftHand">
    <inertial>
      <origin rpy="0 0 0" xyz="0 0 0"/>
      <mass value="0.3"/>
      <inertia ixx="0.001" ixy="0" ixz="0" iyy="0.001" iyz="0" izz="0.001"/>
    </inertial>
    <visual>
      <origin rpy="-1.5707963268 0 1.5707963268" xyz="0.007 -0.012 -0.04"/>
      <geometry name="LSoftHand_visual">
        <mesh filename="package://coman_urdf/meshes/collada/forearms/L_soft_hand_open_lowpoly.dae" scale="0.1 0.1 0.1"/>
      </geometry>
    </visual>
    <collision>
      <origin rpy="0 0 1.5707963268" xyz="0.007 -0.012 -0.04"/>
      <geometry name="LSoftHand_collision">
        <mesh filename="package://coman_urdf/meshes/collada/simple/forearms/L_soft_hand_open.stl" scale="1E-3 1E-3 1E-3"/>
      </geometry>
    </collision>
  </link>
  <joint name="r_handj" type="fixed">
    <parent link="RWrMot3"/>
    <child link="RSoftHand"/>
    <origin rpy="0 0 0" xyz="0 0 -0.07"/>
  </joint>
  <joint name="l_handj" type="fixed">
    <parent link="LWrMot3"/>
    <child link="LSoftHand"/>
    <origin rpy="0 0 0" xyz="0 0 -0.07"/>
  </joint>
  <!-- IMU -->
  <link name="imu_link">
    <inertial>
      <mass value="0.01"/>
      <origin xyz="0 0 0"/>
      <inertia ixx="1.0E-6" ixy="0" ixz="0" iyy="1.0E-6" iyz="0" izz="1.0E-6"/>
    </inertial>
    <visual>
      <origin rpy="0 0 0" xyz="0 0 0"/>
      <geometry>
        <box size="0.01 0.01 0.01"/>
      </geometry>
    </visual>
  </link>
  <joint name="imu_joint" type="fixed">
    <parent link="Waist"/>
    <child link="imu_link"/>
    <origin rpy="0 3.14159 0" xyz="-0.072 -0.0068 0.044"/>
  </joint>
</robot>
